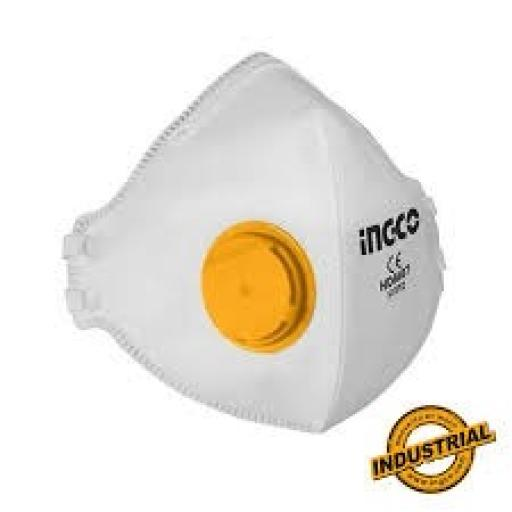mask: (42, 52, 481, 431)
